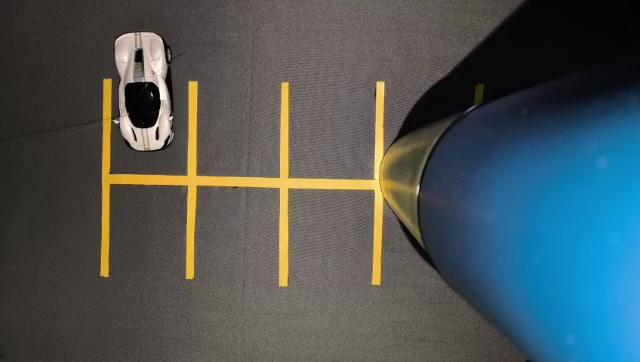toy_car: (90, 26, 201, 161)
